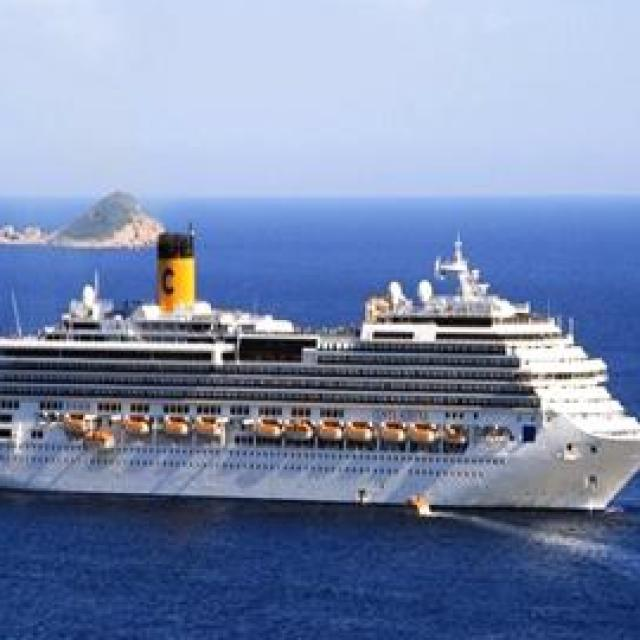passenger ship: (0, 225, 640, 519)
